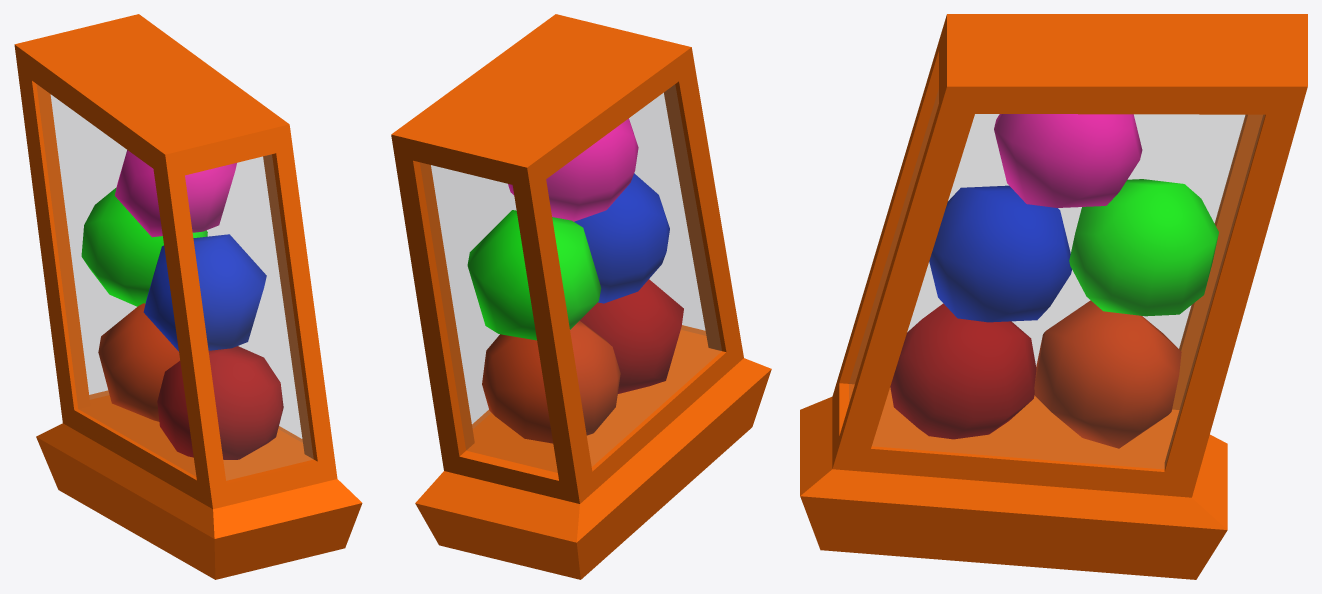
Rendered from Bubble Handgun Mag.obj.
The picture shows the model from 3 angles, left to right: view 1: azimuth 30°, elevation 25°; view 2: azimuth 150°, elevation 25°; view 3: azimuth 270°, elevation 25°; orthographic projection. The views are drawn at different scales.
Parts seen in each view (by area): view 1: Meshpart2, Meshpart5, Meshpart1, Meshpart7, Meshpart4, Meshpart6, Meshpart3; view 2: Meshpart2, Meshpart5, Meshpart6, Meshpart4, Meshpart7, Meshpart1, Meshpart3; view 3: Meshpart2, Meshpart5, Meshpart4, Meshpart6, Meshpart7, Meshpart1, Meshpart3.
Part boxes in pixels (x1=…): Meshpart2: x1=14, y1=14, x2=362, y2=579; Meshpart5: x1=37, y1=85, x2=312, y2=480; Meshpart1: x1=157, y1=346, x2=283, y2=459; Meshpart7: x1=143, y1=234, x2=266, y2=351; Meshpart4: x1=81, y1=187, x2=207, y2=306; Meshpart6: x1=98, y1=303, x2=179, y2=421; Meshpart3: x1=114, y1=150, x2=236, y2=237; Meshpart2: x1=391, y1=14, x2=771, y2=579; Meshpart5: x1=420, y1=85, x2=721, y2=472; Meshpart6: x1=482, y1=320, x2=620, y2=443; Meshpart4: x1=467, y1=210, x2=601, y2=340; Meshpart7: x1=574, y1=173, x2=669, y2=303; Meshpart1: x1=580, y1=279, x2=683, y2=393; Meshpart3: x1=508, y1=118, x2=638, y2=221; Meshpart2: x1=800, y1=14, x2=1307, y2=579; Meshpart5: x1=849, y1=90, x2=1264, y2=468; Meshpart4: x1=1069, y1=179, x2=1218, y2=316; Meshpart6: x1=1034, y1=300, x2=1181, y2=448; Meshpart7: x1=929, y1=185, x2=1071, y2=322; Meshpart1: x1=890, y1=303, x2=1036, y2=439; Meshpart3: x1=994, y1=114, x2=1142, y2=207.
Bounding box in the file's own units: 0.334 × 0.8862 × 0.8293.
